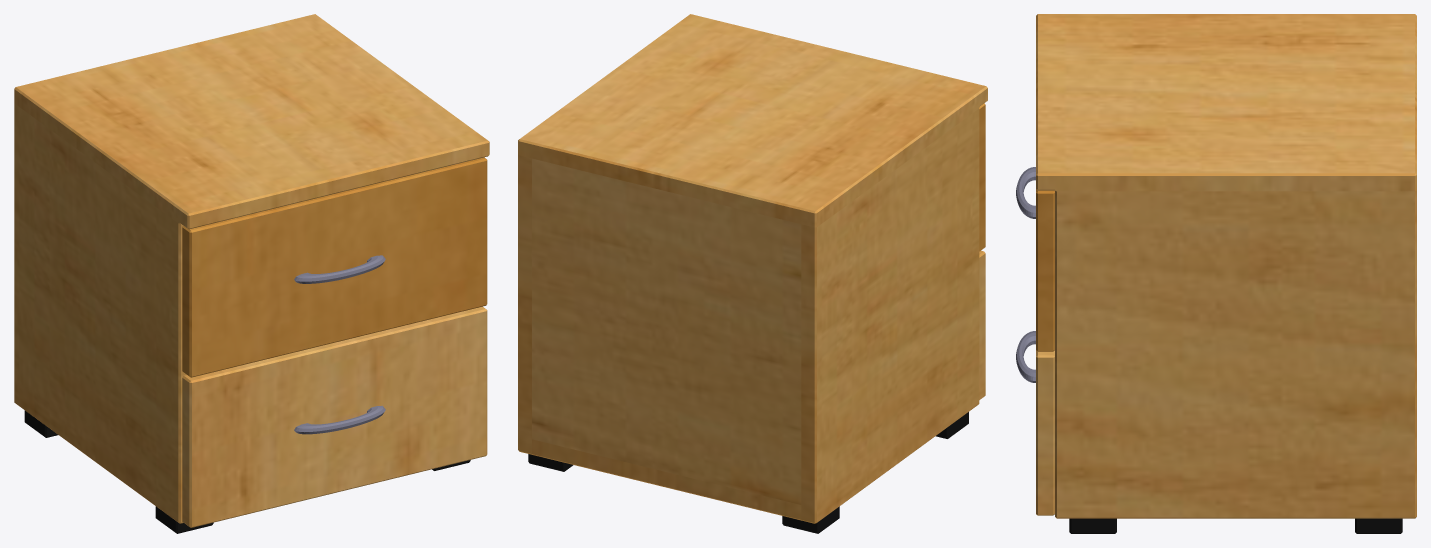
The model's file is Nightstand.obj.
3 renders of one model, left to right at view 1: azimuth 30°, elevation 25°; view 2: azimuth 150°, elevation 25°; view 3: azimuth 270°, elevation 25°, orthographic. The views are drawn at different scales.
Visible parts, largest first — view 1: Nightstand_Cube.084, Base_Cube.082, Handle02_Torus.072, Handle01_Torus.070; view 2: Nightstand_Cube.084, Base_Cube.082; view 3: Nightstand_Cube.084, Base_Cube.082, Handle02_Torus.072, Handle01_Torus.070.
Boxes of the visible parts, bbox=[...] form: Nightstand_Cube.084: bbox=[14, 14, 489, 527]; Base_Cube.082: bbox=[24, 410, 470, 533]; Handle02_Torus.072: bbox=[294, 405, 385, 434]; Handle01_Torus.070: bbox=[294, 255, 385, 283]; Nightstand_Cube.084: bbox=[518, 14, 987, 523]; Base_Cube.082: bbox=[528, 412, 968, 533]; Nightstand_Cube.084: bbox=[1036, 14, 1416, 518]; Base_Cube.082: bbox=[1069, 518, 1402, 533]; Handle02_Torus.072: bbox=[1016, 331, 1035, 382]; Handle01_Torus.070: bbox=[1016, 167, 1035, 218].
Bounding box in the file's own units: 0.4 × 0.42 × 0.421.
3 materials, 1 textured.
